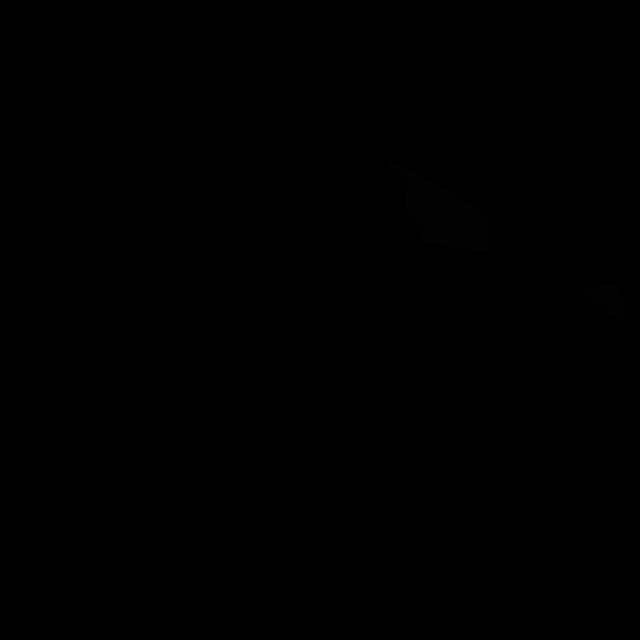cardboard: (386, 159, 488, 252), (579, 283, 625, 323)
